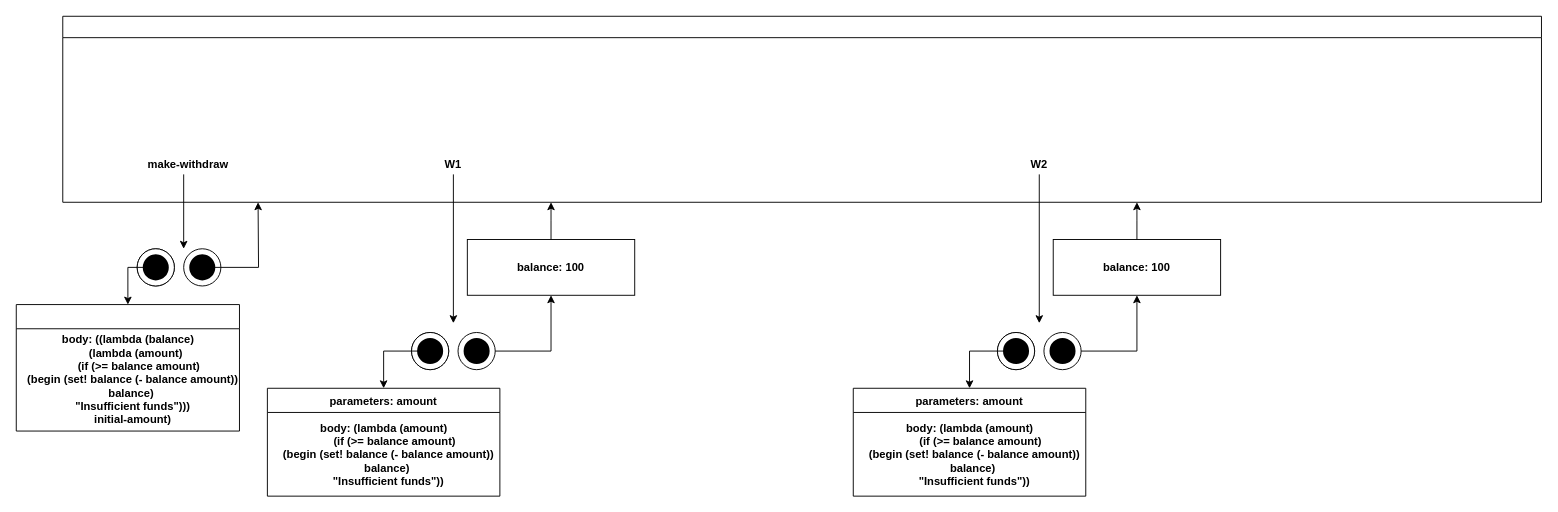
Image size: 1558x512. Some labels were removed from this diagram. Here are the shapes that lost their labels. From the top down, the box of each, then its label:
(62, 15, 1541, 202): Global Environment
(15, 304, 239, 431): parameters: initial-amount
